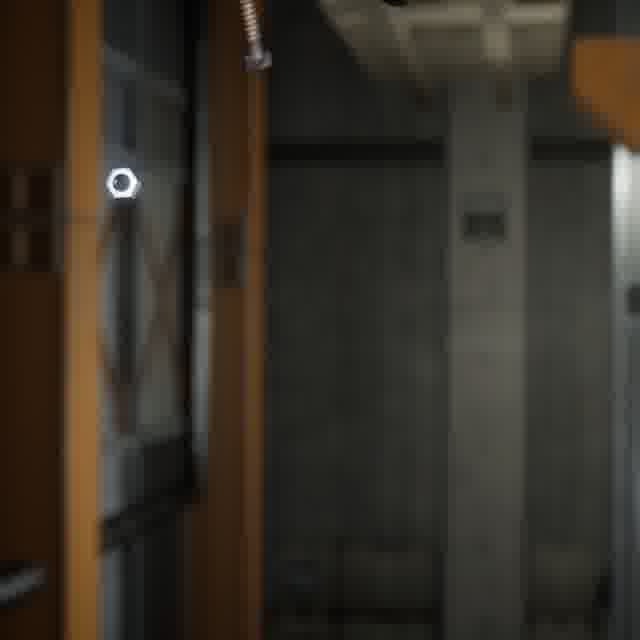bolt: (234, 0, 277, 75)
nut: (100, 162, 145, 204)
